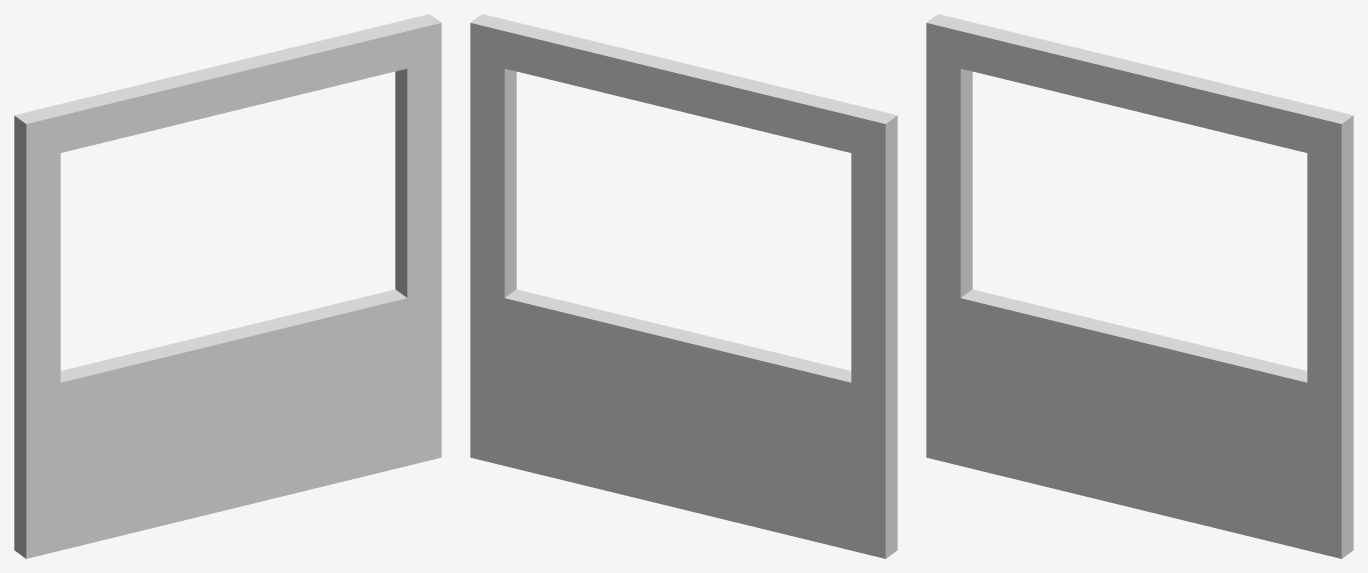
Rendered from PlainWindowframe.fbx.
3 views of the same model, side by side, from view 1: azimuth 30°, elevation 25°; view 2: azimuth 150°, elevation 25°; view 3: azimuth 330°, elevation 25° (orthographic).
Parts seen in each view (by area): view 1: PlainWindowframe; view 2: PlainWindowframe; view 3: PlainWindowframe.
Part boxes in pixels (x1,y1,x2,y2): PlainWindowframe: (14, 14, 441, 558); PlainWindowframe: (470, 14, 897, 558); PlainWindowframe: (926, 14, 1353, 558).
Size of the model in its own units: 200 by 200 by 10.
